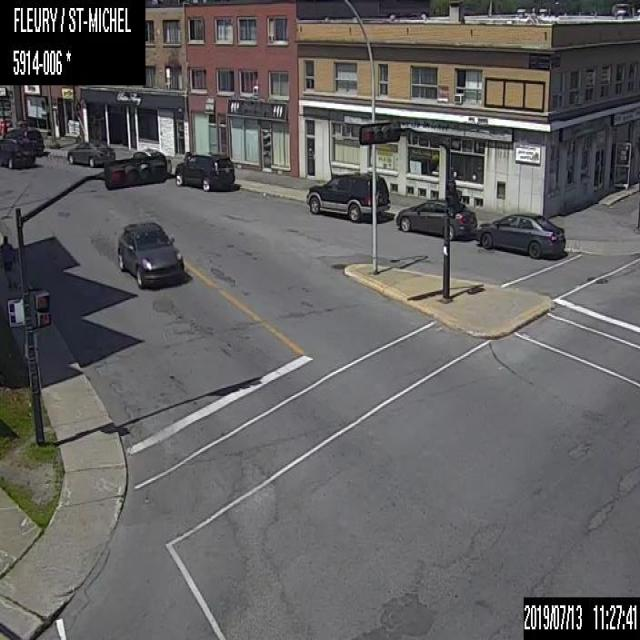pedestrian: (0, 234, 15, 289)
vehicle: (474, 208, 568, 258), (304, 171, 390, 221), (116, 223, 184, 286), (395, 196, 478, 241), (173, 149, 235, 191), (66, 140, 116, 167), (0, 134, 36, 168), (129, 146, 168, 173)
